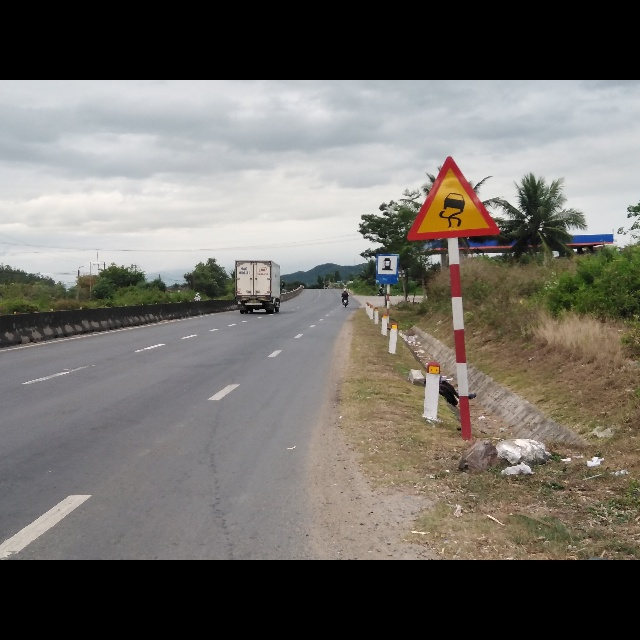Đường trơn trượt: (403, 154, 502, 242)
